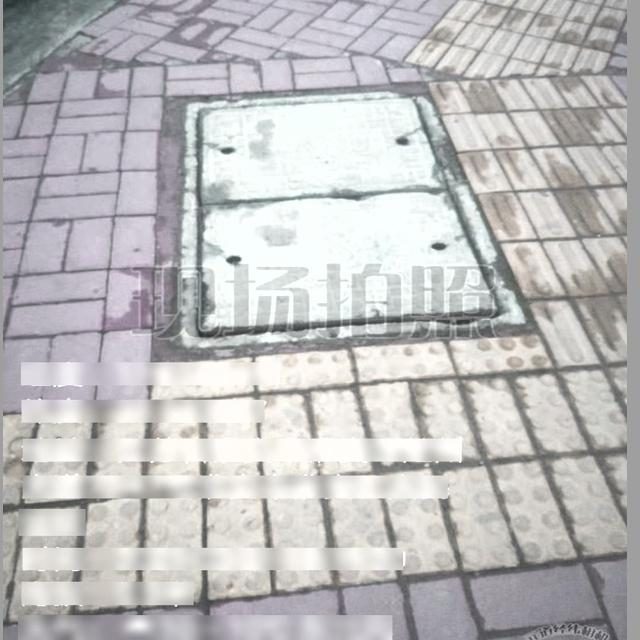good: (182, 89, 528, 344)
